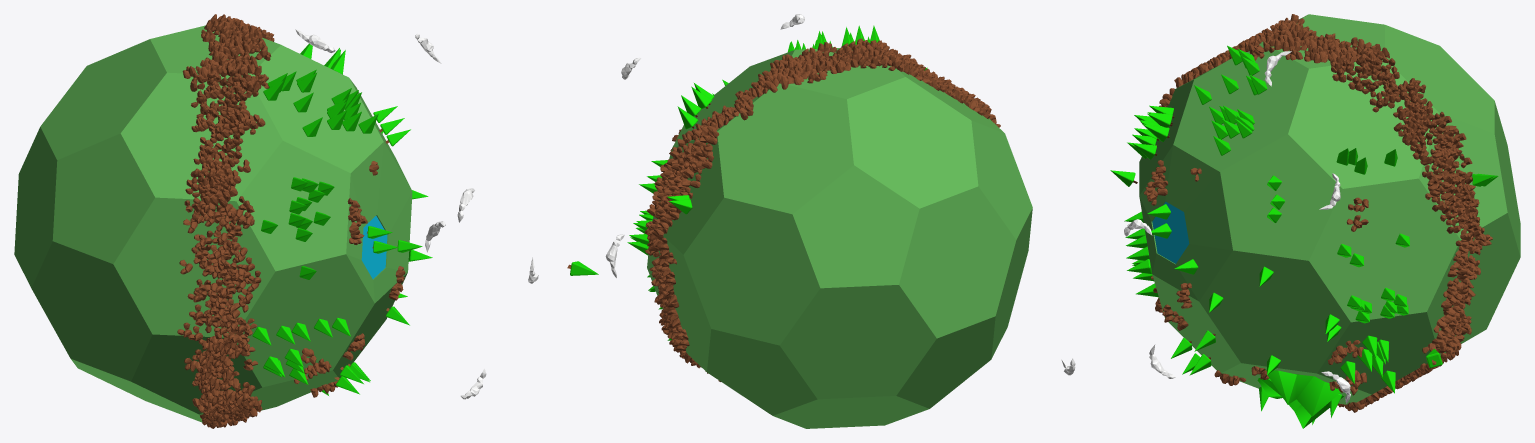
File: World.fbx
3 renders of one model, left to right at view 1: azimuth 30°, elevation 25°; view 2: azimuth 150°, elevation 25°; view 3: azimuth 270°, elevation 25°, orthographic. The views are drawn at different scales.
Parts seen in each view (by area): view 1: GD_mesh, GD_mesh.001; view 2: GD_mesh; view 3: GD_mesh, montanha (Montanha).001, GD_mesh.001.
Part boxes in pixels (bbox=[...]): GD_mesh: bbox=[14, 25, 412, 422]; GD_mesh.001: bbox=[361, 216, 387, 278]; GD_mesh: bbox=[647, 47, 1032, 428]; GD_mesh: bbox=[1139, 14, 1520, 404]; montanha (Montanha).001: bbox=[1257, 369, 1343, 428]; GD_mesh.001: bbox=[1152, 201, 1189, 263].
Size of the model in its own units: 4752 by 4183 by 4714.
